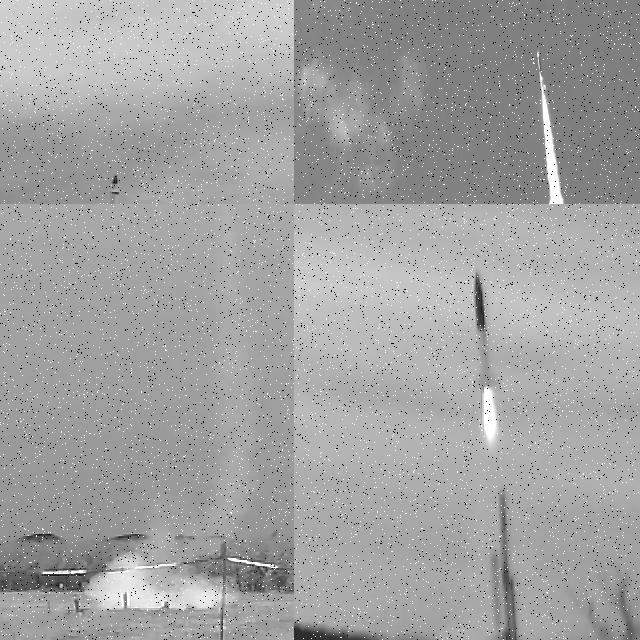Rocket: (469, 268, 501, 387), (93, 174, 122, 204), (537, 52, 546, 94)
